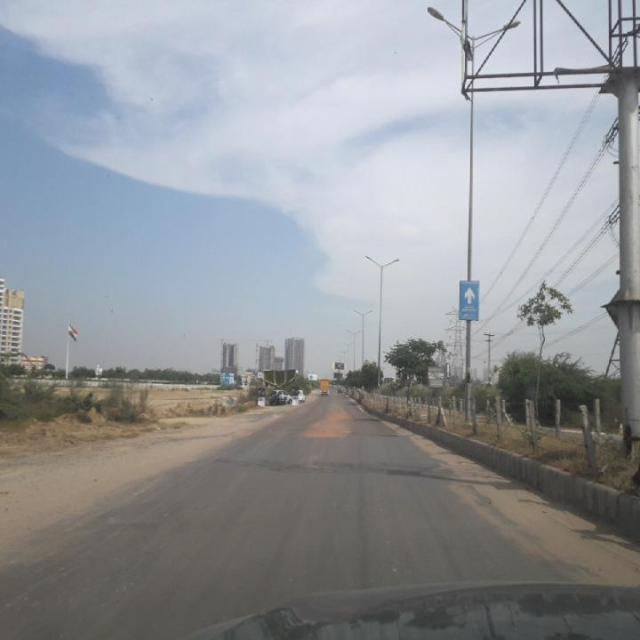Surface Erosion: (253, 364, 504, 640)
